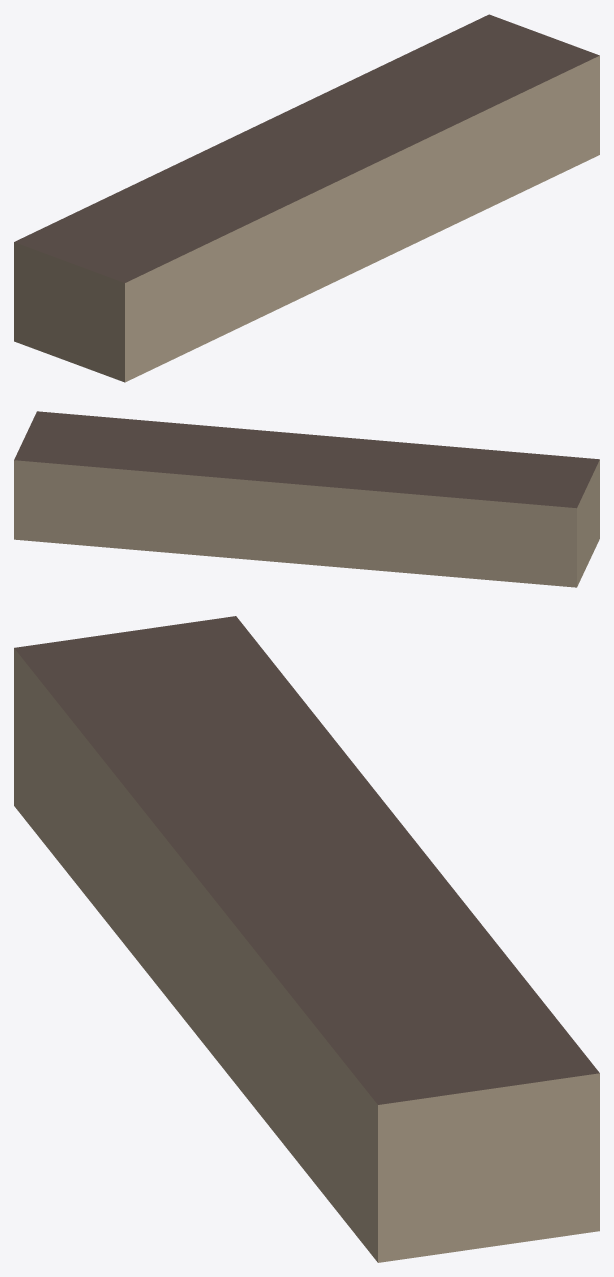
3 views of the same model, one above another, from view 1: azimuth 30°, elevation 25°; view 2: azimuth 150°, elevation 25°; view 3: azimuth 270°, elevation 25° (orthographic). The views are drawn at different scales.
Parts seen in each view (by area): view 1: HP-w1286957254; view 2: HP-w1286957254; view 3: HP-w1286957254.
Part boxes in pixels (x1=…): HP-w1286957254: x1=14, y1=14, x2=599, y2=382; HP-w1286957254: x1=14, y1=411, x2=599, y2=587; HP-w1286957254: x1=14, y1=616, x2=599, y2=1262.
Bounding box in the file's own units: 59.77 × 9 × 30.27.
